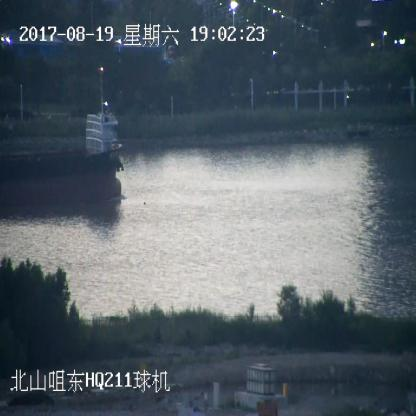Bulk Carrier: (0, 117, 124, 202)
